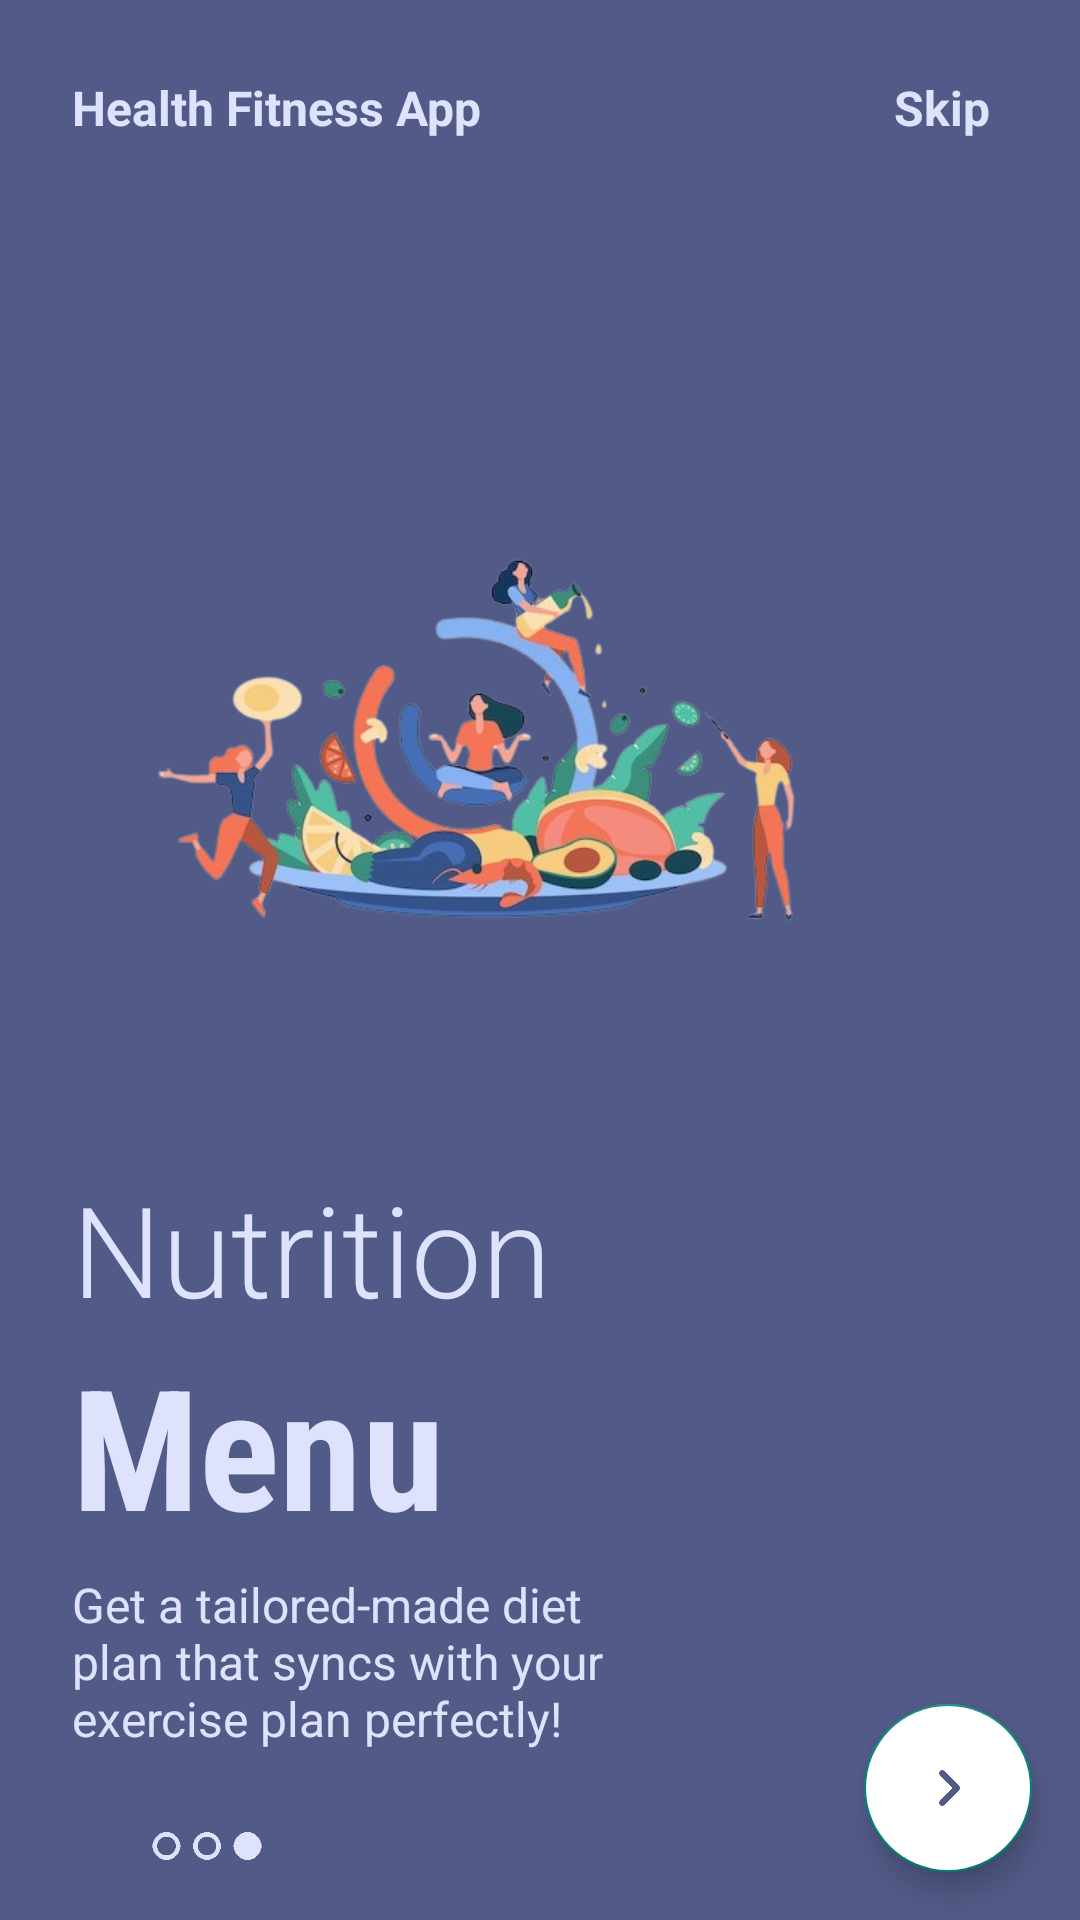

Where to tap for icons on this 1080px x 1920px app screen, as (x=x, y=y):
next: (x=948, y=1788)
tab: (x=207, y=1846)
